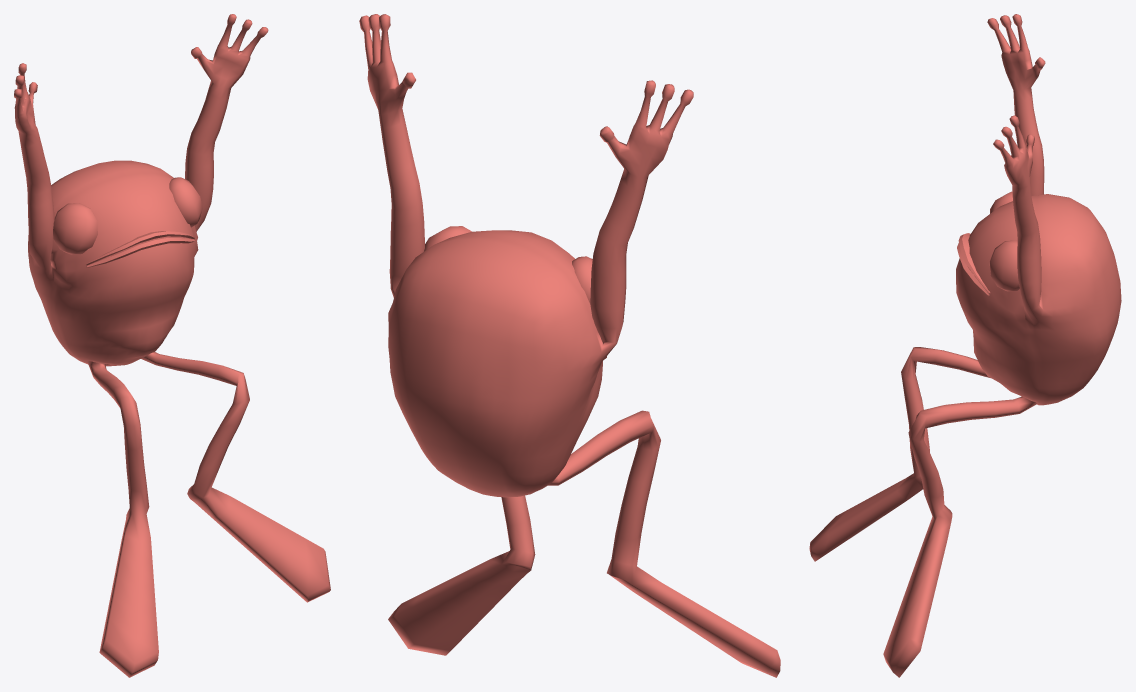
The model's file is SM_croacroa_yippee.fbx.
3 views of the same model, side by side, from view 1: azimuth 30°, elevation 25°; view 2: azimuth 150°, elevation 25°; view 3: azimuth 270°, elevation 25° (orthographic). The views are drawn at different scales.
Parts seen in each view (by area): view 1: Cube.015; view 2: Cube.015; view 3: Cube.015.
Boxes of the visible parts, left/top/right/bottom form: Cube.015: left=14, top=14, right=330, bottom=677; Cube.015: left=359, top=14, right=780, bottom=677; Cube.015: left=809, top=14, right=1121, bottom=677.
Size of the model in its own units: 82.66 by 158 by 81.89.
